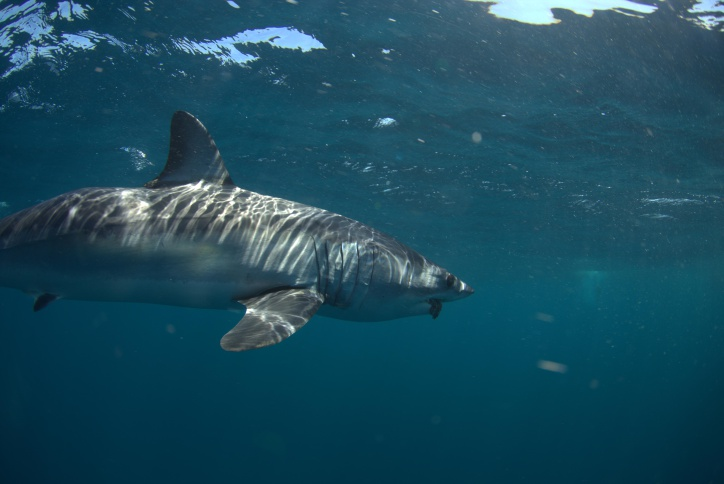Mako: (1, 102, 487, 357)
